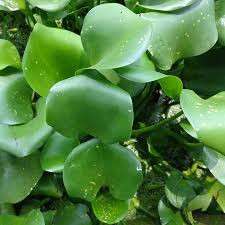water_hyacinth: (1, 0, 225, 224)
